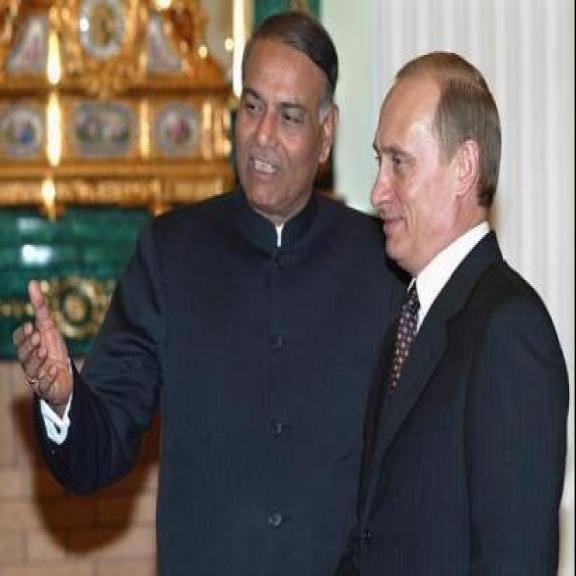face: (370, 84, 479, 266), (235, 50, 340, 214)
